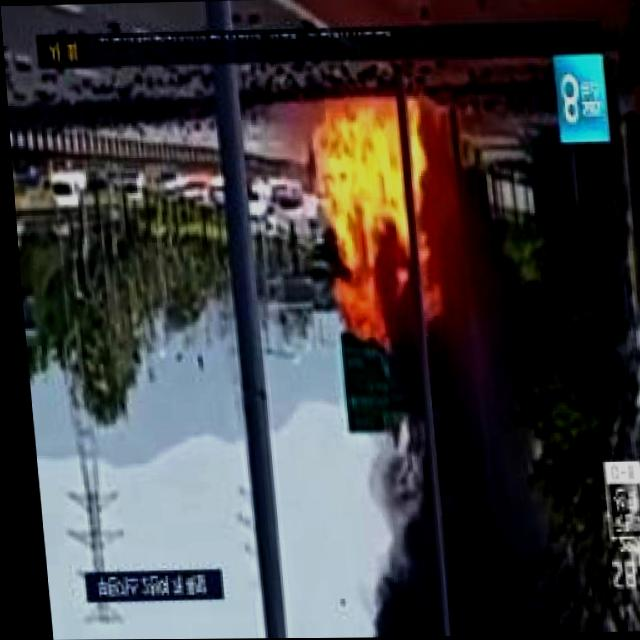Fire: (306, 87, 419, 261)
Smoke: (339, 265, 540, 638)
